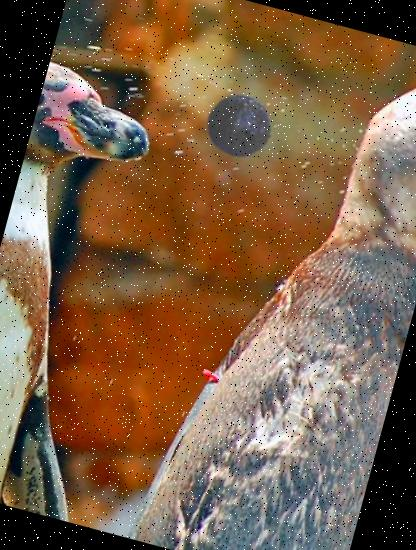Avocado: (195, 82, 280, 169)
